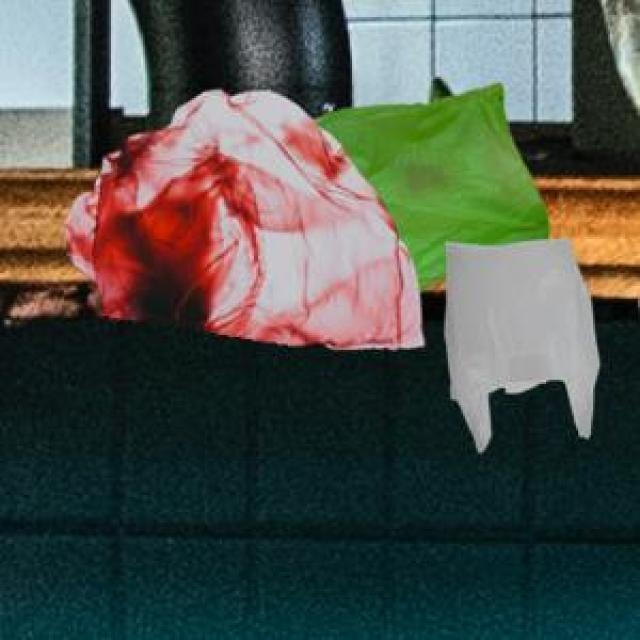waste: (69, 86, 599, 452)
